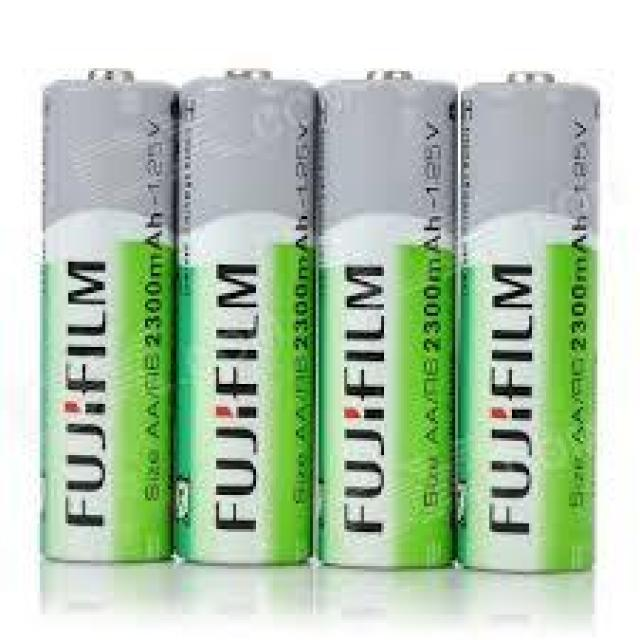AA: (452, 68, 600, 572), (313, 65, 458, 569), (174, 65, 316, 566), (37, 66, 176, 564)
